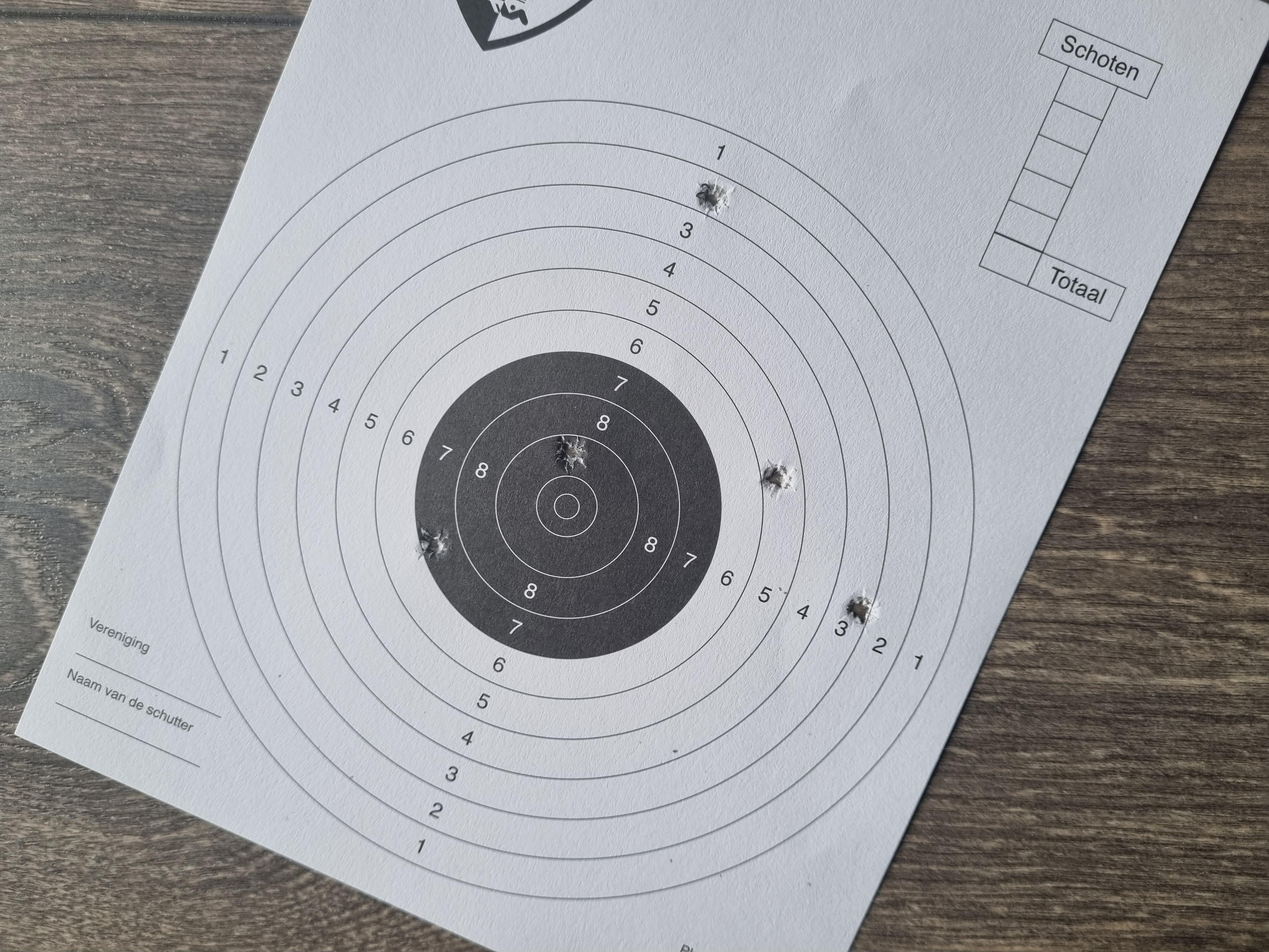hole: (980, 518, 1028, 551), (602, 570, 657, 597), (432, 631, 481, 661), (641, 415, 687, 444), (521, 312, 566, 337)
